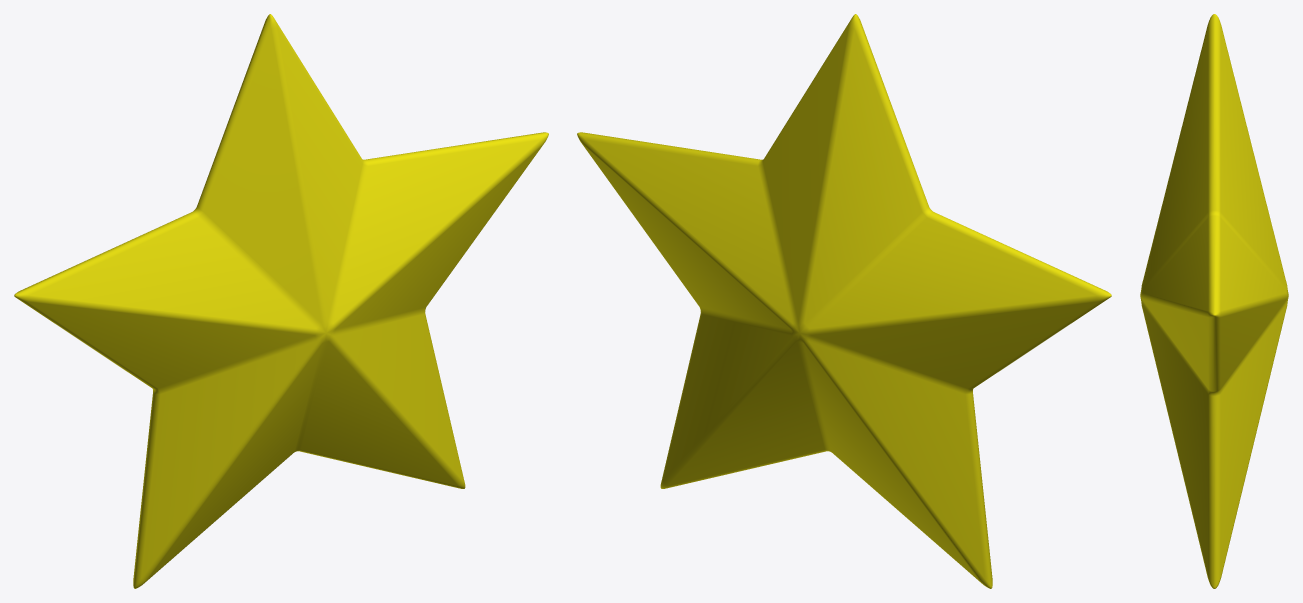
The model's file is star.fbx.
3 views of the same model, side by side, from view 1: azimuth 30°, elevation 25°; view 2: azimuth 150°, elevation 25°; view 3: azimuth 270°, elevation 25° (orthographic). The views are drawn at different scales.
Parts seen in each view (by area): view 1: Star; view 2: Star; view 3: Star.
Part boxes in pixels (x1,y1,x2,y2): Star: [14, 14, 548, 588]; Star: [577, 14, 1111, 588]; Star: [1140, 14, 1288, 588].
Size of the model in its own units: 65.13 by 63.12 by 16.83.
